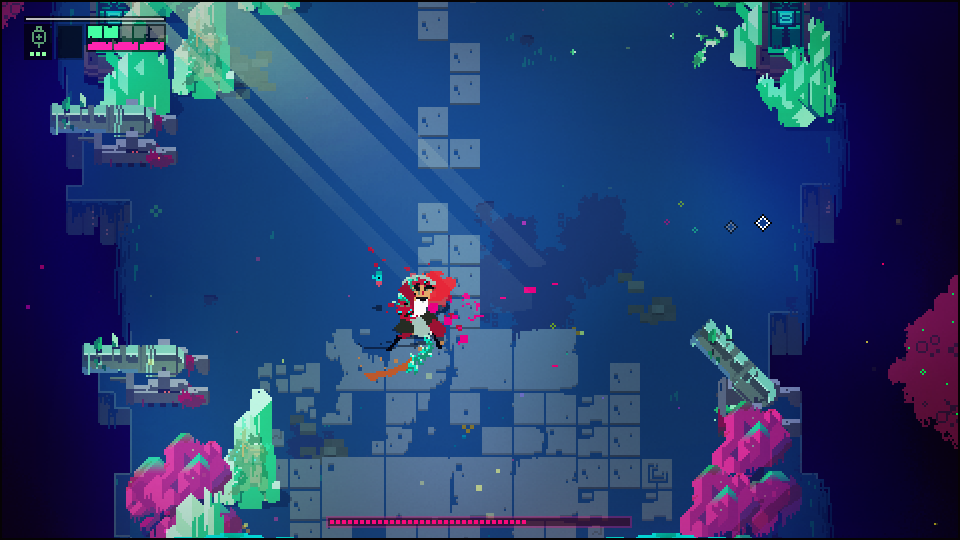hanged_man: (367, 273, 460, 377)
